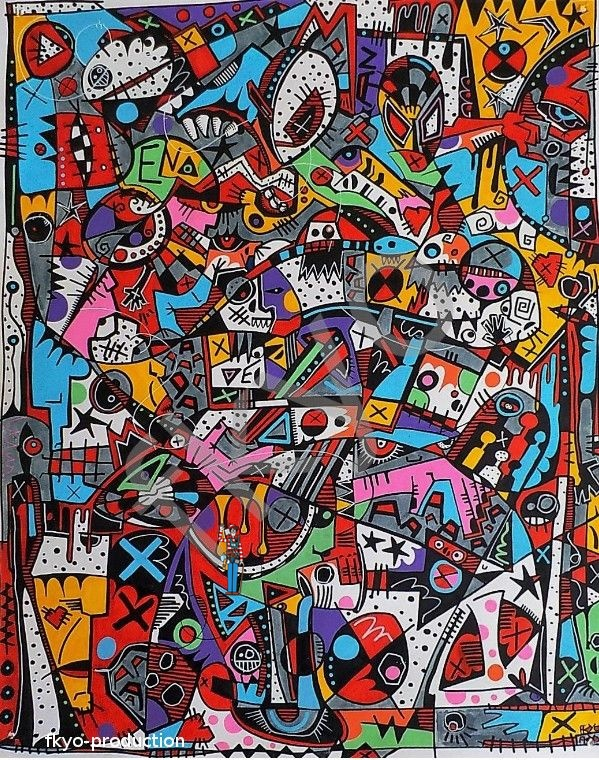waldo: (218, 523, 245, 596)
